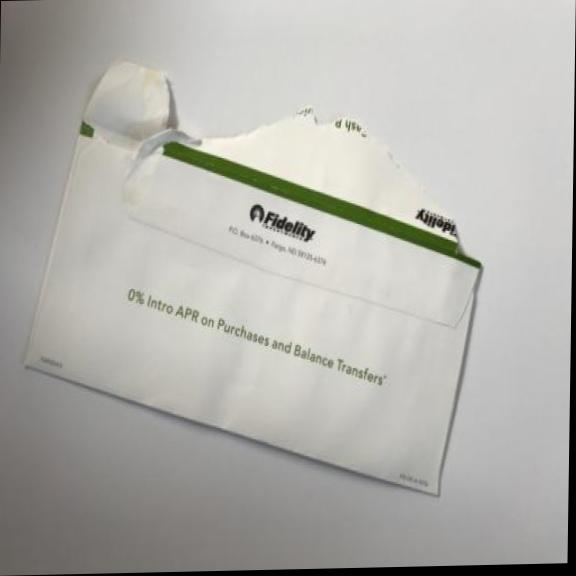Kertas: (20, 47, 481, 510)
